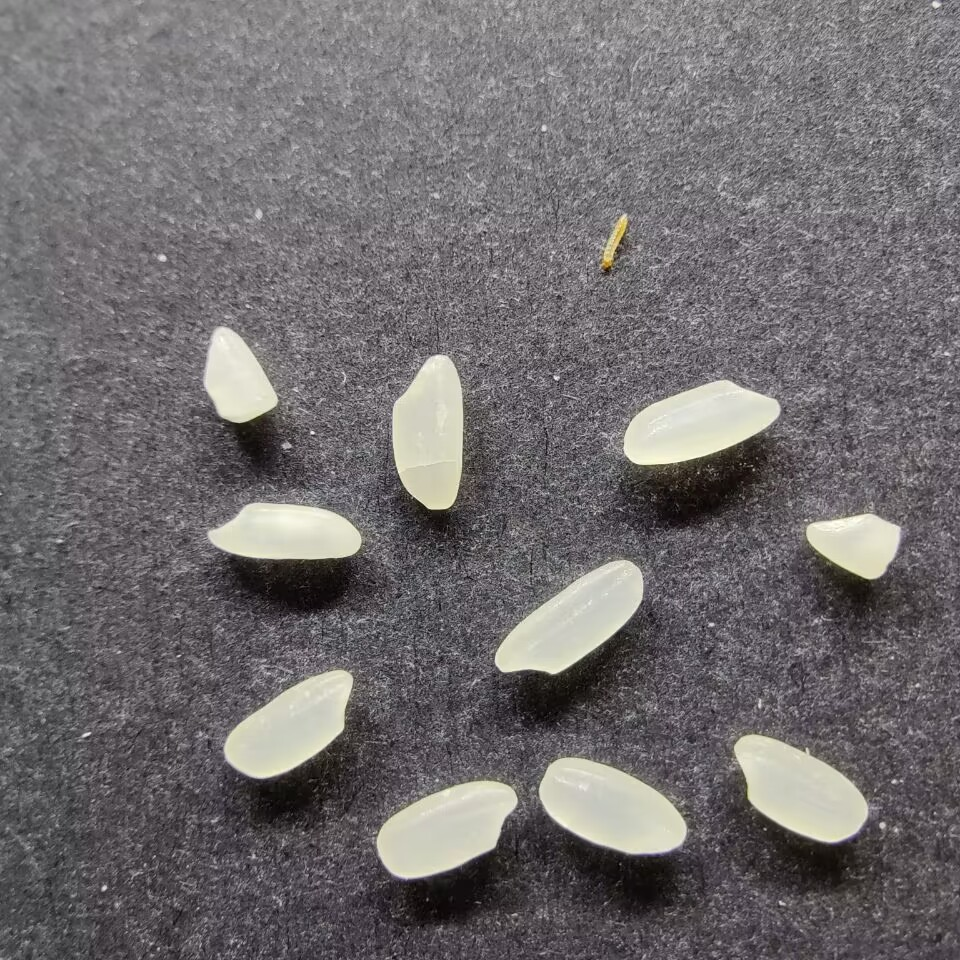broken: (202, 326, 277, 424), (805, 512, 901, 581)
others: (595, 211, 632, 275)
rice: (493, 558, 644, 675), (733, 734, 869, 844), (537, 756, 687, 855), (222, 668, 354, 780), (375, 780, 518, 879), (621, 378, 780, 466), (390, 354, 464, 510), (206, 501, 361, 562)
